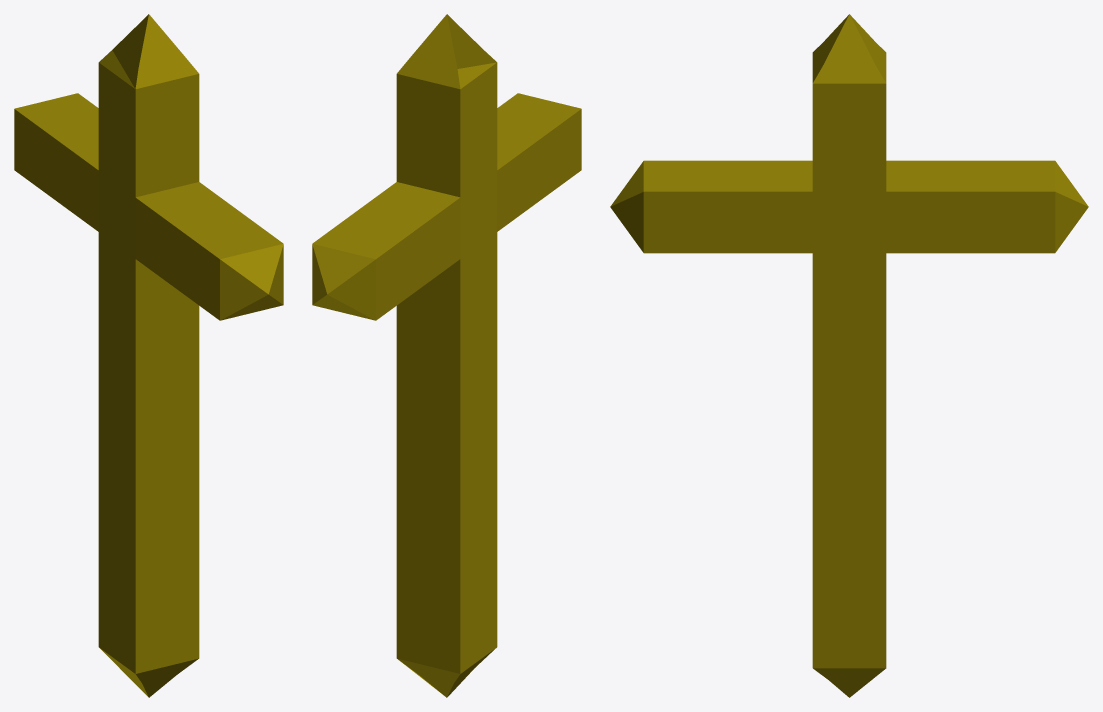
File: cross.fbx
The picture shows the model from 3 angles, left to right: view 1: azimuth 30°, elevation 25°; view 2: azimuth 150°, elevation 25°; view 3: azimuth 270°, elevation 25°; orthographic projection.
Visible parts, largest first — view 1: Cube; view 2: Cube; view 3: Cube.
Boxes of the visible parts, x1=… form: Cube: x1=14, y1=14, x2=283, y2=697; Cube: x1=312, y1=14, x2=581, y2=697; Cube: x1=610, y1=14, x2=1088, y2=697.
Bounding box in the file's own units: 3.97 × 40.71 × 25.83.
